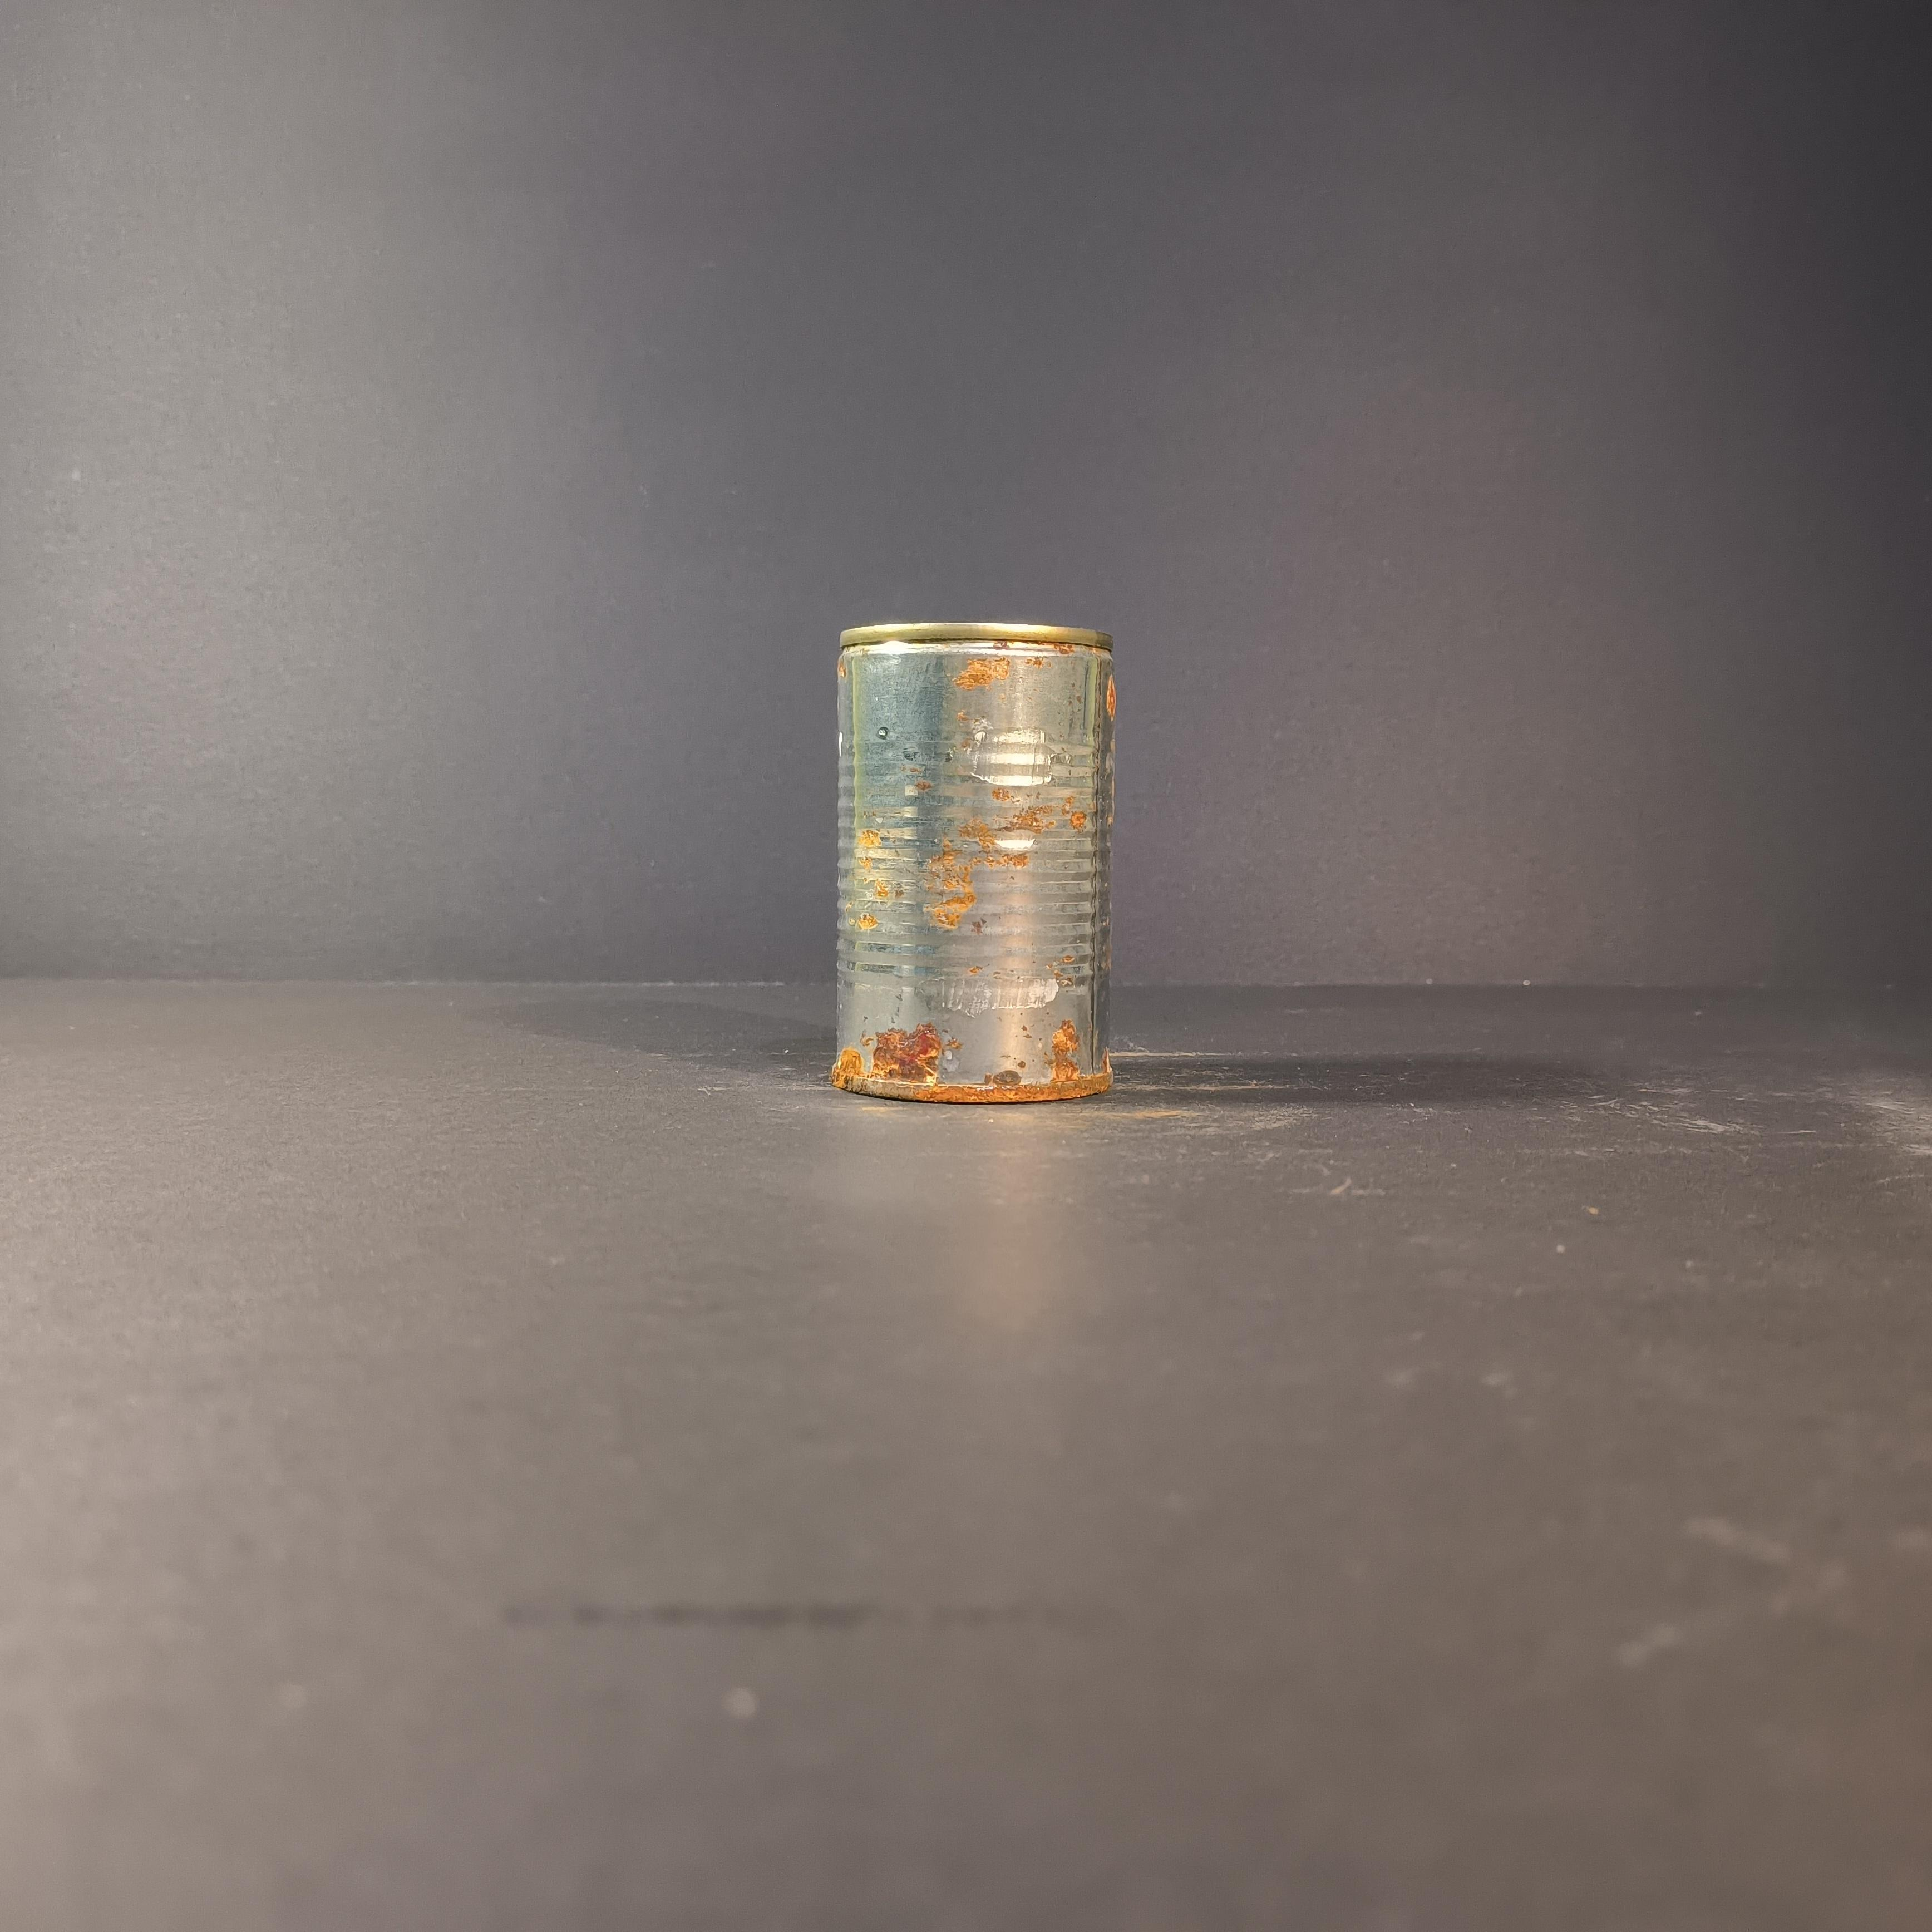Rusted: (823, 612, 1132, 1108)
